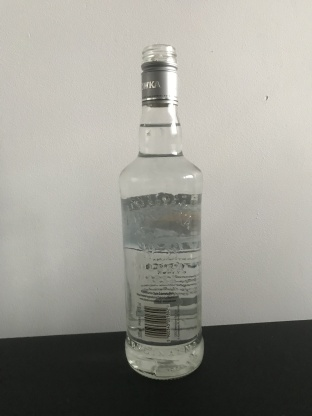nakretka: (139, 41, 179, 106)
